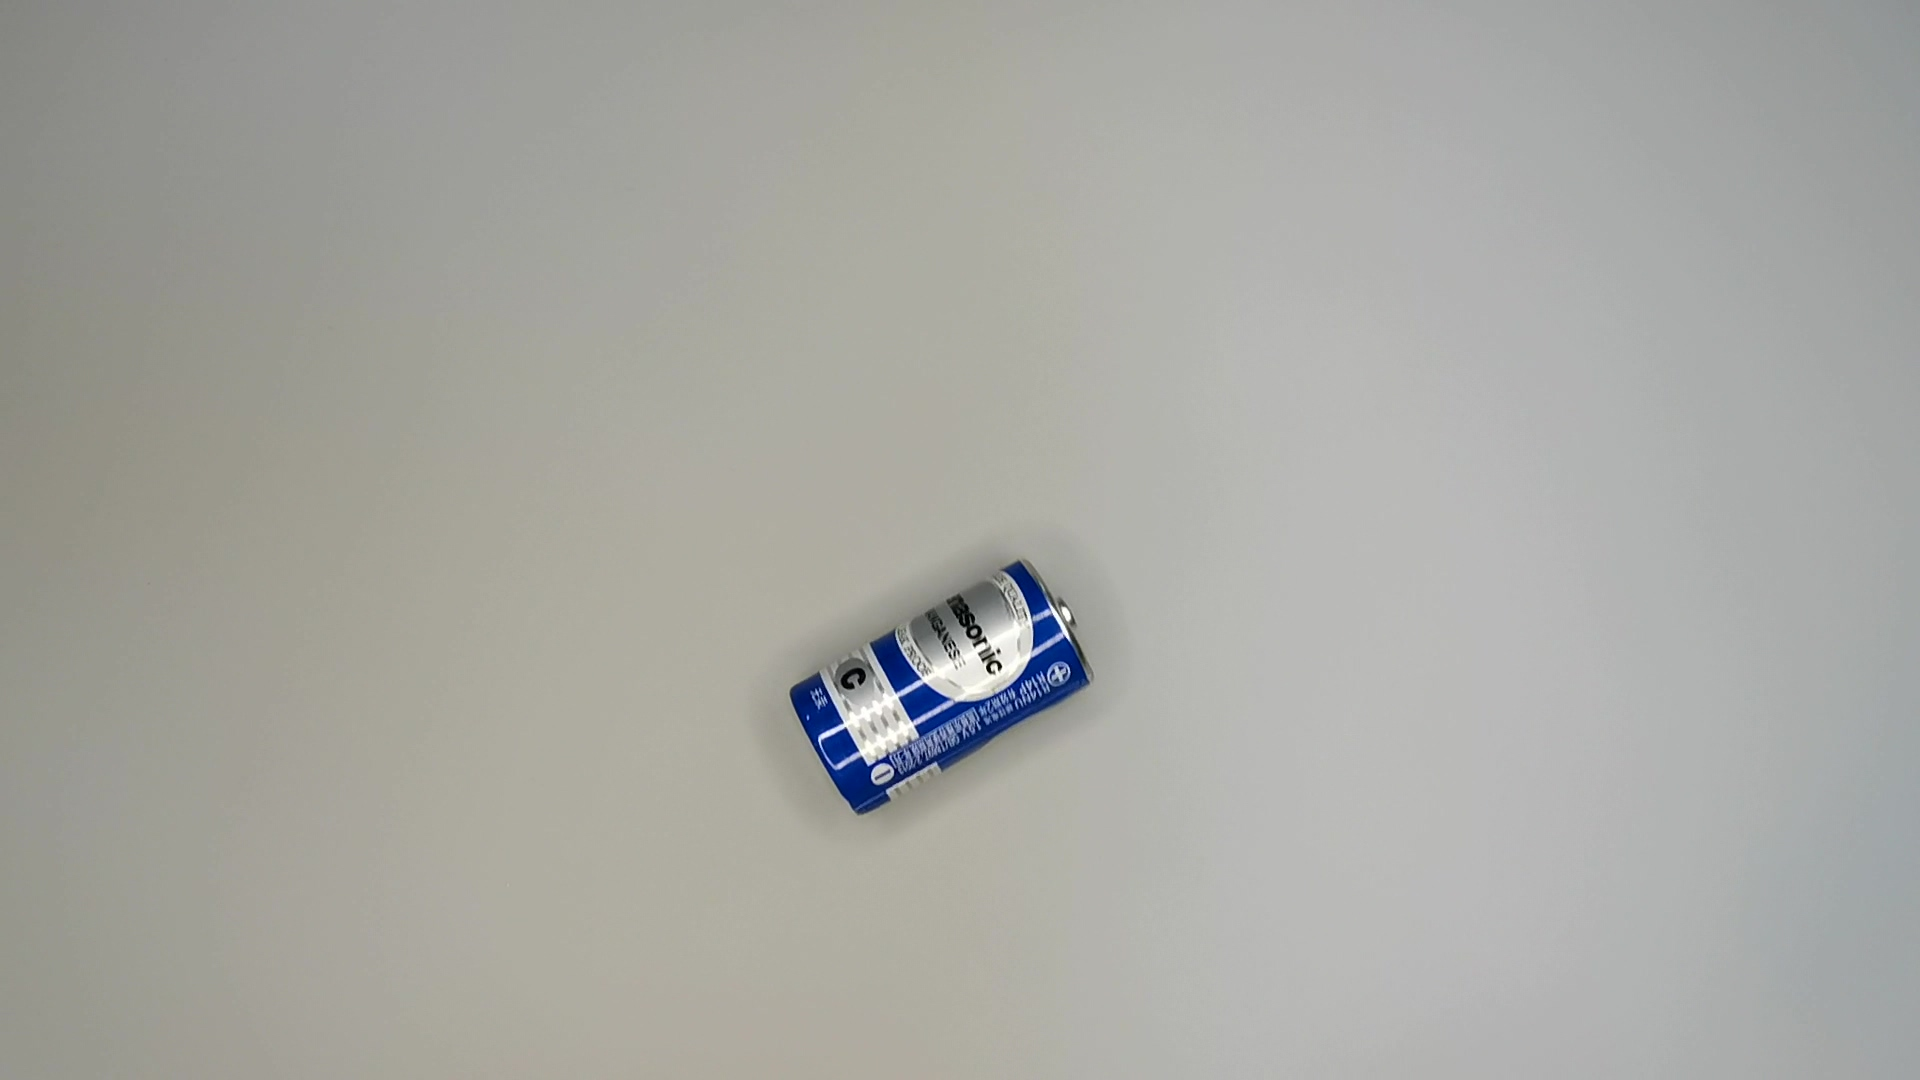battery: (785, 556, 1098, 824)
